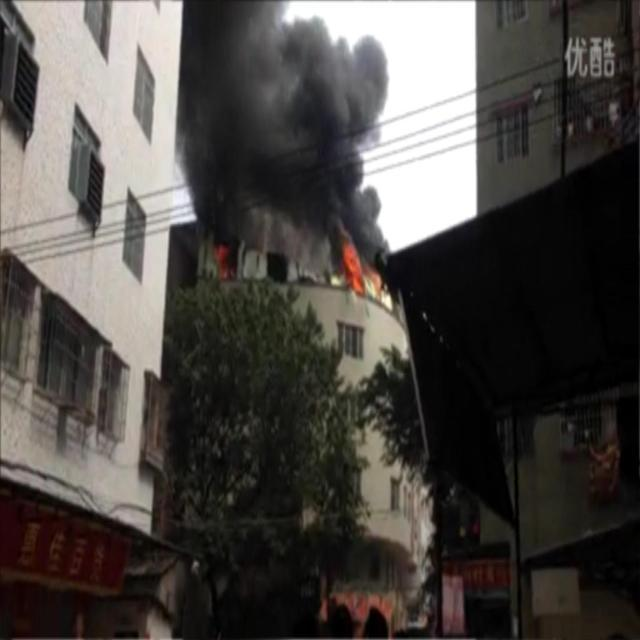Fire: (341, 243, 364, 296), (214, 243, 232, 277), (364, 265, 382, 297)
Smoke: (176, 0, 396, 294)
